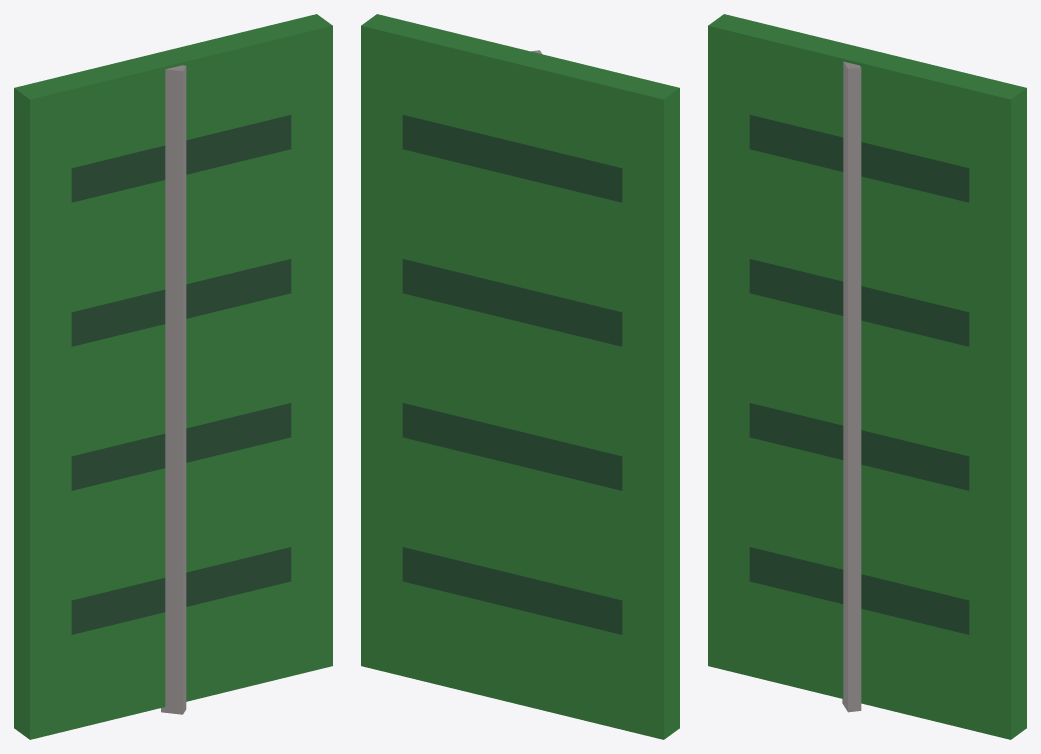
File: cargo-shipping-door_L_green.glb
The picture shows the model from 3 angles, left to right: view 1: azimuth 30°, elevation 25°; view 2: azimuth 150°, elevation 25°; view 3: azimuth 330°, elevation 25°; orthographic projection.
Parts seen in each view (by area): view 1: cargo-shipping-door_L_green; view 2: cargo-shipping-door_L_green; view 3: cargo-shipping-door_L_green.
Part boxes in pixels (x1,y1,x2,y2): cargo-shipping-door_L_green: [14, 14, 332, 739]; cargo-shipping-door_L_green: [361, 14, 679, 739]; cargo-shipping-door_L_green: [708, 14, 1026, 739].
Size of the model in its own units: 1.09 by 2.22 by 0.1398.
1 material, 1 textured.
